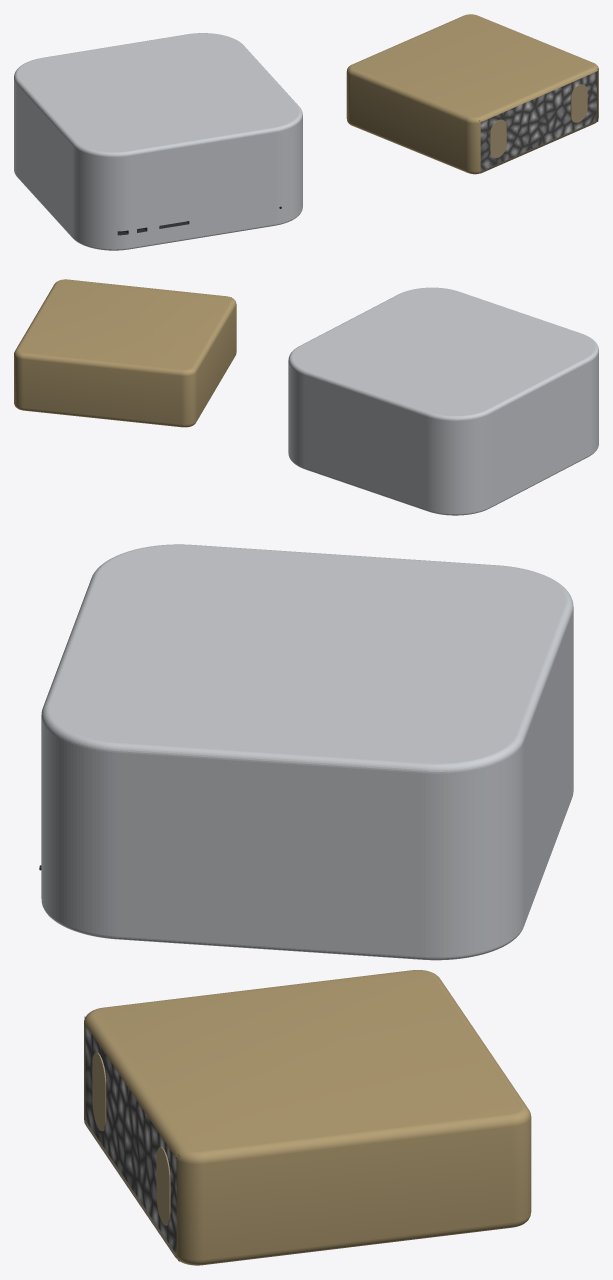
File: oracles.glb
3 views of the same model, one above another, from view 1: azimuth 30°, elevation 25°; view 2: azimuth 150°, elevation 25°; view 3: azimuth 270°, elevation 25° (orthographic). The views are drawn at different scales.
Parts seen in each view (by area): view 1: mac-studio, dgx-spark, dgx-spark-foam, tub.001, tub; view 2: mac-studio, dgx-spark; view 3: mac-studio, dgx-spark, dgx-spark-foam, tub.001, tub.
Boxes of the visible parts, x1=… form: mac-studio: x1=14, y1=33, x2=302, y2=250; dgx-spark: x1=346, y1=14, x2=598, y2=174; dgx-spark-foam: x1=479, y1=68, x2=598, y2=173; tub.001: x1=570, y1=84, x2=587, y2=122; tub: x1=490, y1=119, x2=506, y2=158; mac-studio: x1=288, y1=287, x2=598, y2=515; dgx-spark: x1=14, y1=279, x2=236, y2=427; mac-studio: x1=41, y1=544, x2=573, y2=960; dgx-spark: x1=84, y1=970, x2=531, y2=1265; dgx-spark-foam: x1=84, y1=1016, x2=179, y2=1261; tub.001: x1=156, y1=1147, x2=170, y2=1225; tub: x1=92, y1=1052, x2=106, y2=1130.
Bounding box in the file's own units: 0.4914 × 0.095 × 0.2158.
Materials: 9 (1 with a texture image).
